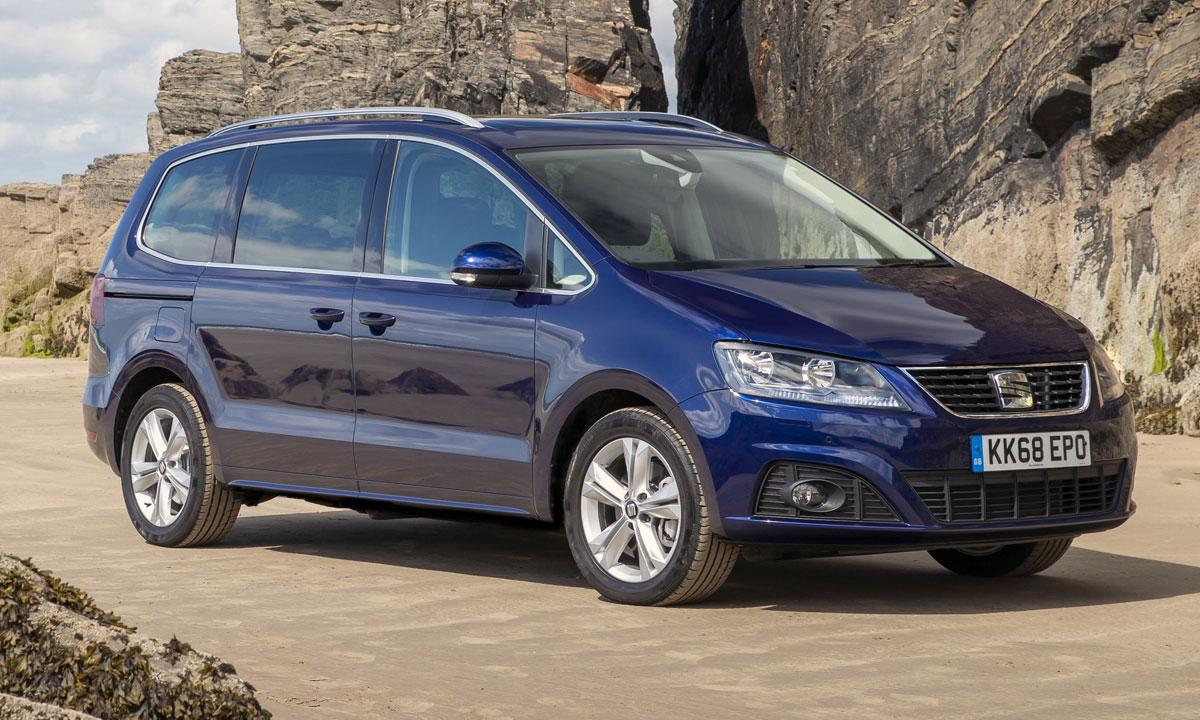car: (61, 111, 1141, 611)
